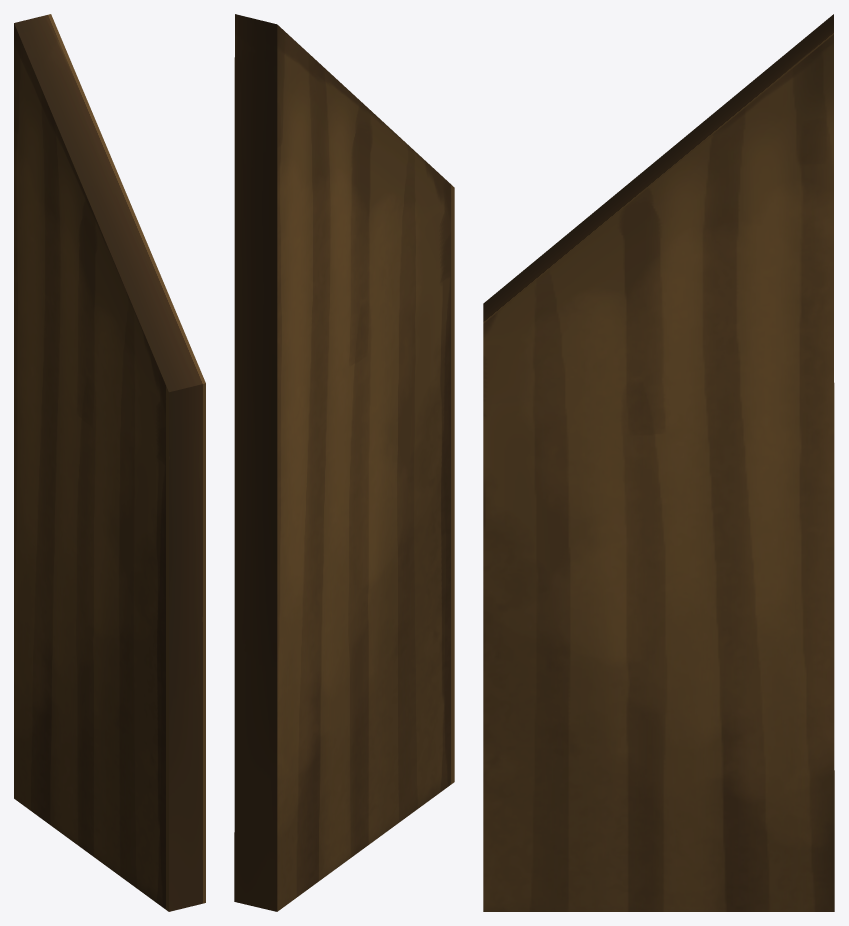
File: puertaDesliz1.obj
3 renders of one model, left to right at view 1: azimuth 30°, elevation 25°; view 2: azimuth 150°, elevation 25°; view 3: azimuth 270°, elevation 25°, orthographic. The views are drawn at different scales.
Visible parts, largest first — view 1: Cube.003; view 2: Cube.003; view 3: Cube.003.
Part boxes in pixels (box(x1,y1,x2,y2)): Cube.003: box(14, 14, 205, 911); Cube.003: box(234, 14, 454, 911); Cube.003: box(483, 14, 834, 911).
Size of the model in its own units: 0.4393 by 8.78 by 3.19.
